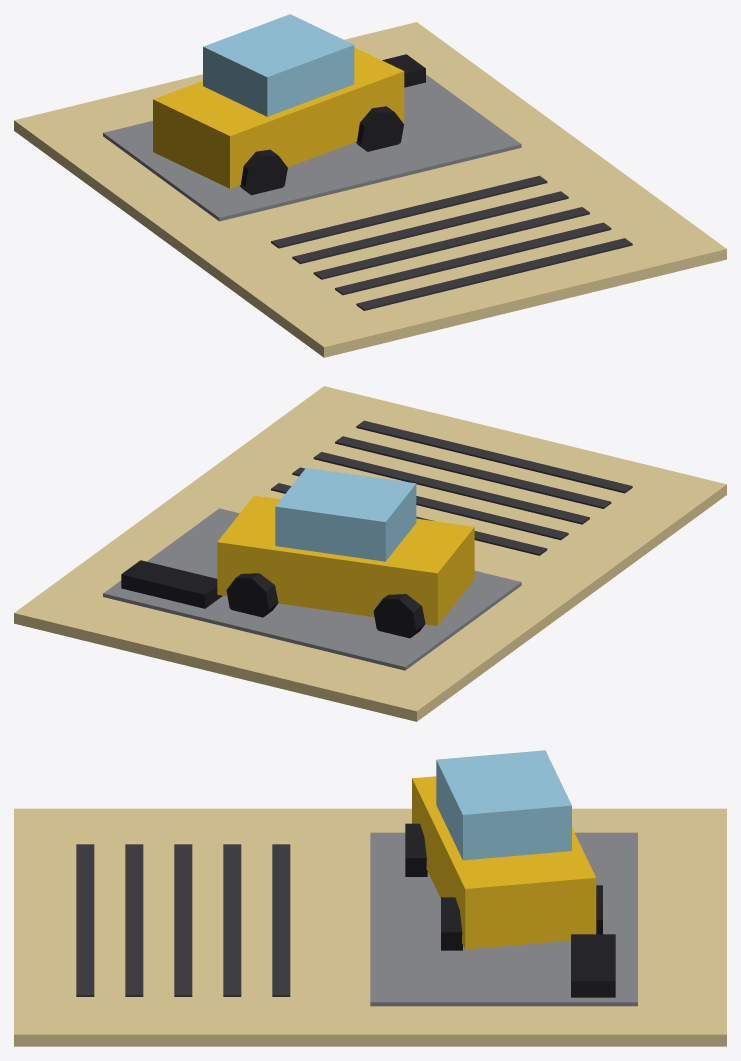
The model's file is claim_photos.glb.
The picture shows the model from 3 angles, top to bottom: view 1: azimuth 30°, elevation 25°; view 2: azimuth 150°, elevation 25°; view 3: azimuth 270°, elevation 25°; orthographic projection. The views are drawn at different scales.
Parts seen in each view (by area): view 1: folder_folder_beige, photo_photo_carpet, body_toy_car_f2c21e, lines_folder_text (×5), cabin_toy_glass, wheels_toy_wheel, stapler_photo_stapler; view 2: folder_folder_beige, body_toy_car_f2c21e, photo_photo_carpet, lines_folder_text (×5), cabin_toy_glass, wheels_toy_wheel, stapler_photo_stapler; view 3: folder_folder_beige, photo_photo_carpet, body_toy_car_f2c21e, lines_folder_text (×5), cabin_toy_glass, stapler_photo_stapler, wheels_toy_wheel.
Part boxes in pixels (x1,y1,x2,y2): folder_folder_beige: [14, 22, 726, 357]; photo_photo_carpet: [103, 74, 521, 221]; body_toy_car_f2c21e: [153, 47, 404, 188]; lines_folder_text (×5): [271, 175, 632, 310]; cabin_toy_glass: [203, 14, 354, 116]; wheels_toy_wheel: [239, 106, 403, 195]; stapler_photo_stapler: [382, 54, 425, 87]; folder_folder_beige: [14, 386, 726, 721]; body_toy_car_f2c21e: [217, 495, 474, 625]; photo_photo_carpet: [103, 508, 521, 670]; lines_folder_text (×5): [271, 420, 632, 555]; cabin_toy_glass: [275, 467, 416, 561]; wheels_toy_wheel: [226, 573, 425, 638]; stapler_photo_stapler: [121, 560, 222, 608]; folder_folder_beige: [14, 808, 726, 1046]; photo_photo_carpet: [370, 832, 637, 1006]; body_toy_car_f2c21e: [412, 776, 596, 949]; lines_folder_text (×5): [76, 844, 290, 996]; cabin_toy_glass: [436, 750, 571, 860]; stapler_photo_stapler: [571, 934, 615, 997]; wheels_toy_wheel: [405, 823, 602, 950].
Size of the model in its own units: 0.24 by 0.0655 by 0.32.
